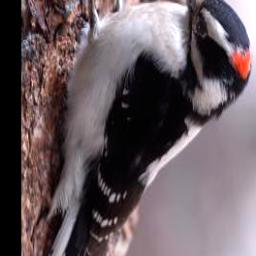Woodpecker: (35, 0, 256, 256)
